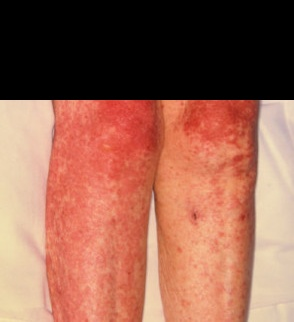SJS-TEN: (43, 99, 263, 322)
